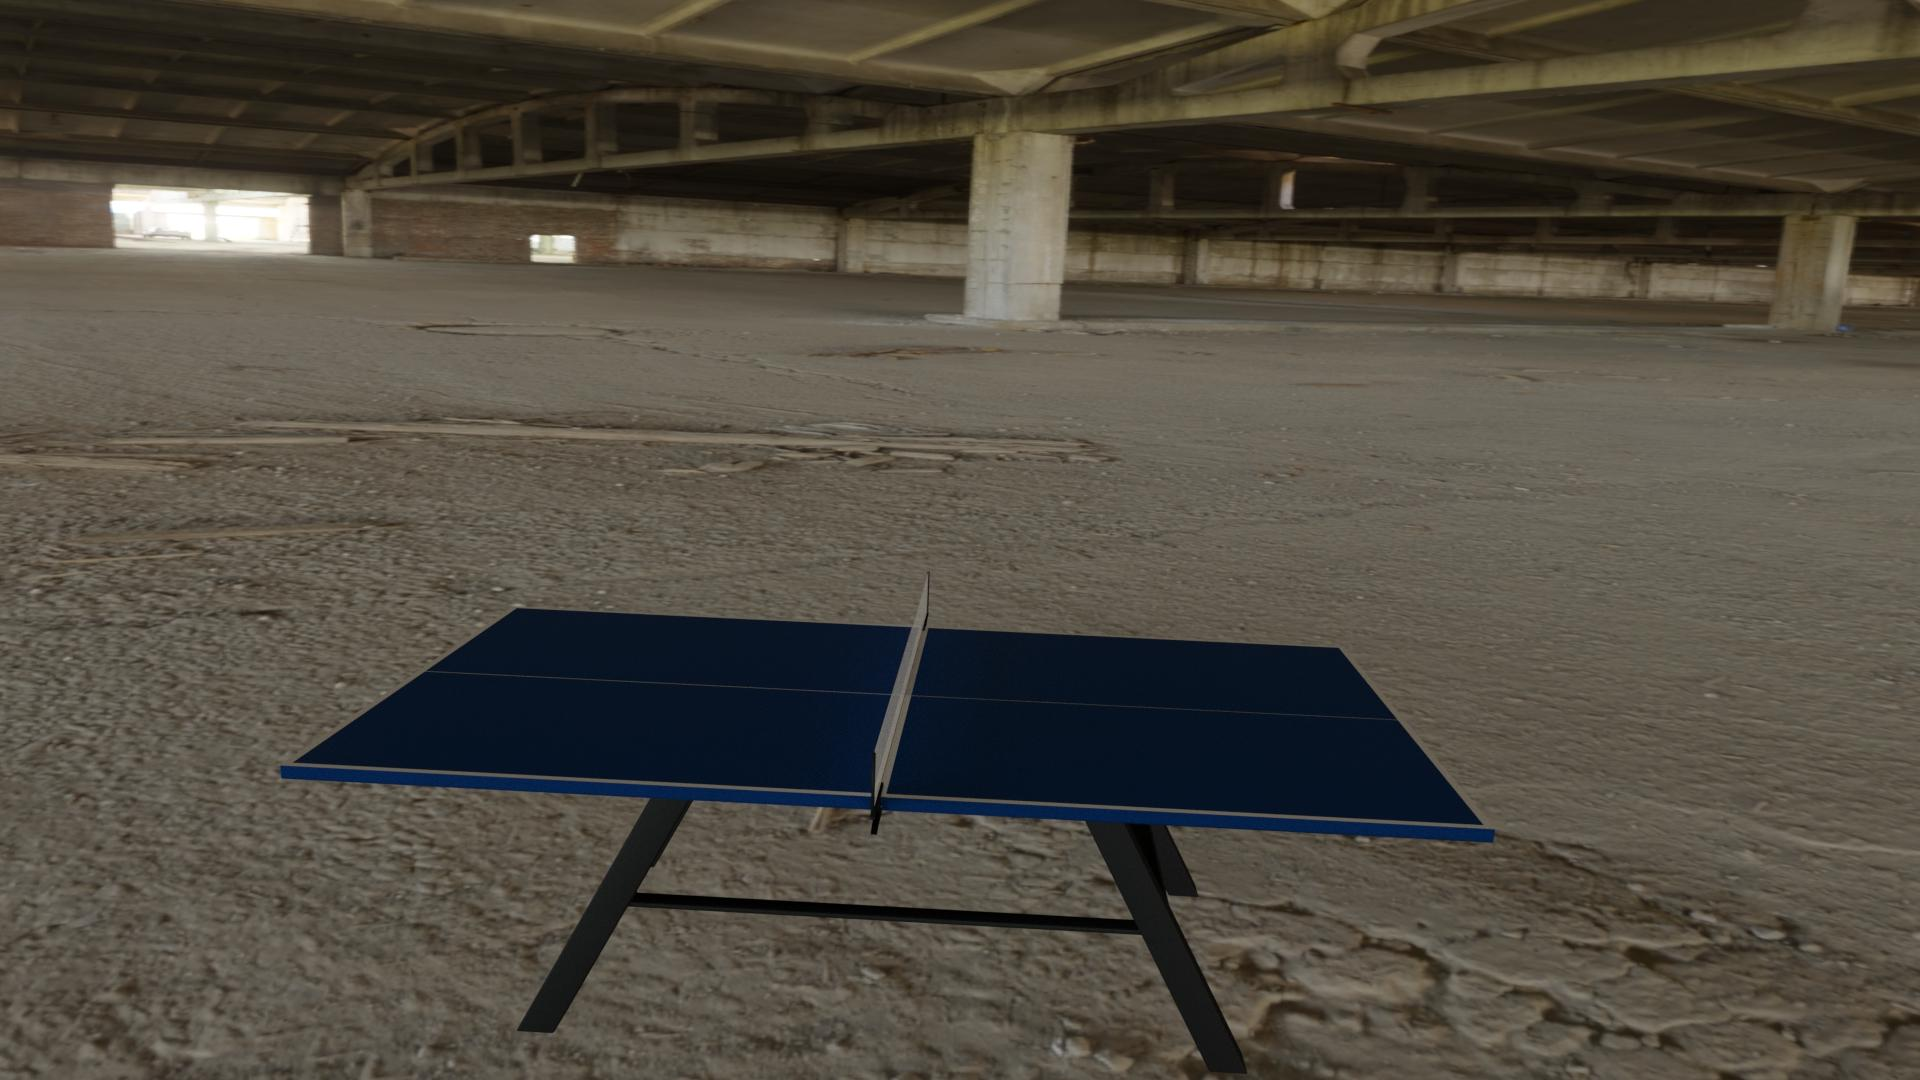table: (293, 608, 1484, 825)
